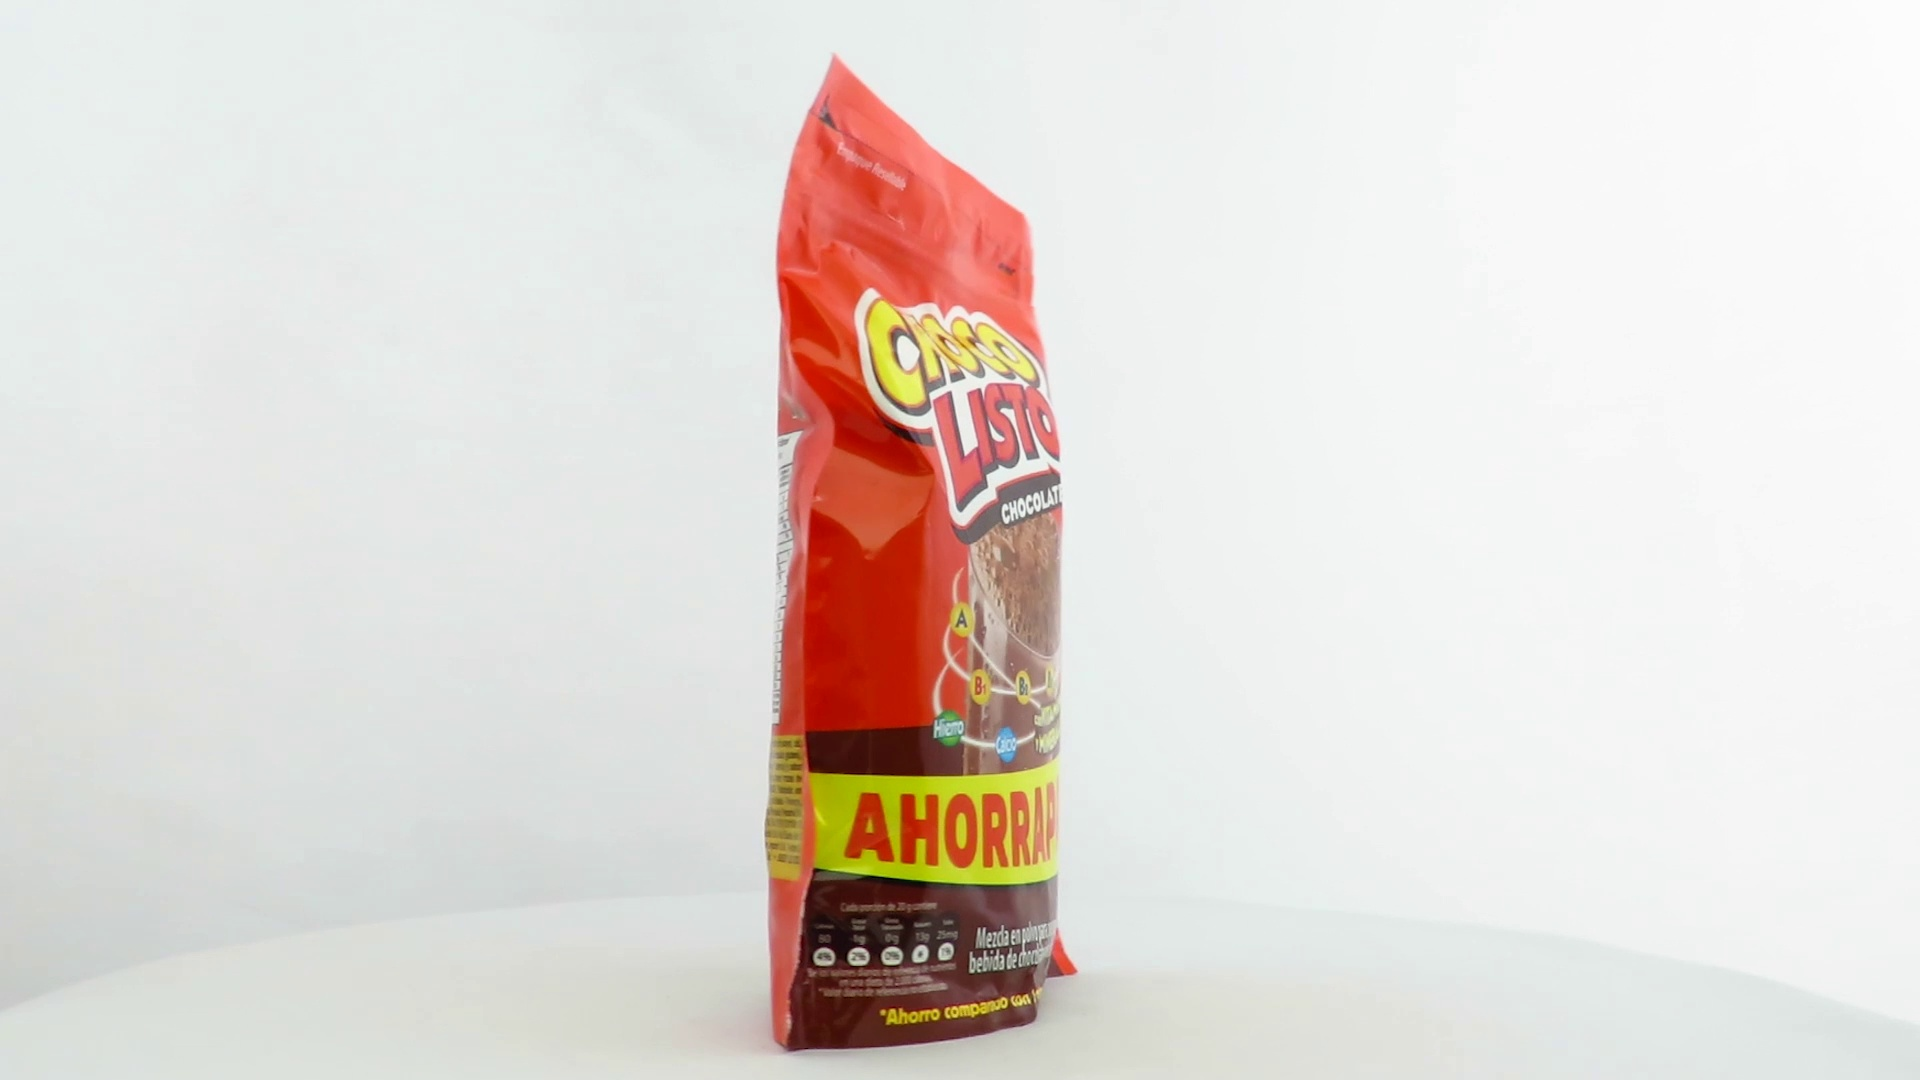COL0170103DYP40000: (760, 47, 1084, 1058)
